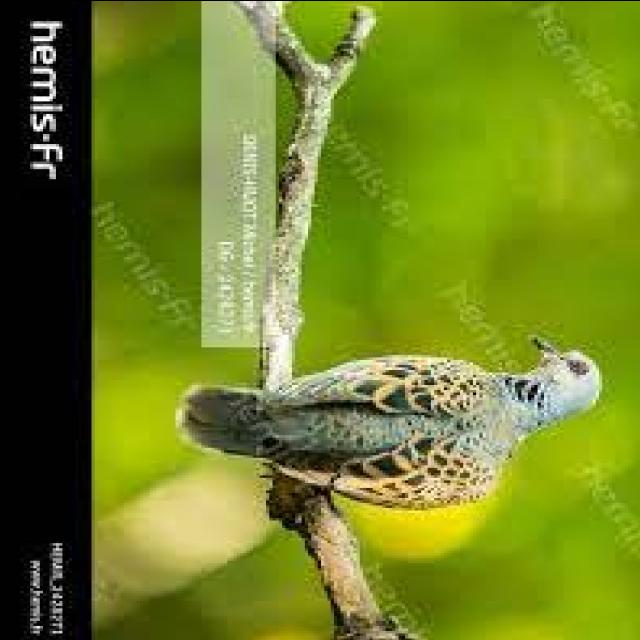pigeon: (178, 302, 600, 530)
